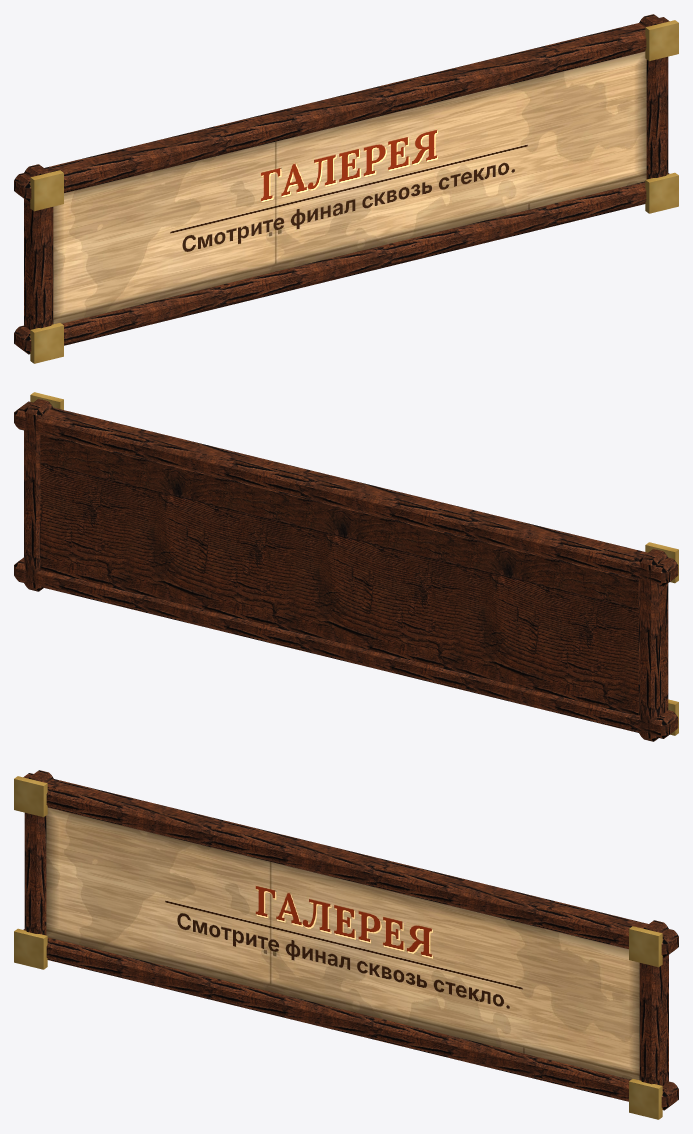
Rendered from sg_ru_gallery.glb.
3 renders of one model, top to bottom at view 1: azimuth 30°, elevation 25°; view 2: azimuth 150°, elevation 25°; view 3: azimuth 330°, elevation 25°, orthographic.
Visible parts, largest first — view 1: spire; view 2: spire; view 3: spire.
Part boxes in pixels (x1=…): spire: x1=14, y1=14, x2=678, y2=363; spire: x1=14, y1=392, x2=678, y2=741; spire: x1=14, y1=770, x2=678, y2=1119.
Size of the model in its own units: 3.96 by 1.06 by 0.19.
3 materials, 3 textured.
